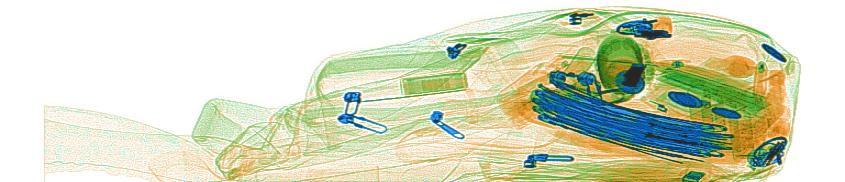plasticBottleWithaNozzle: (497, 52, 574, 117)
